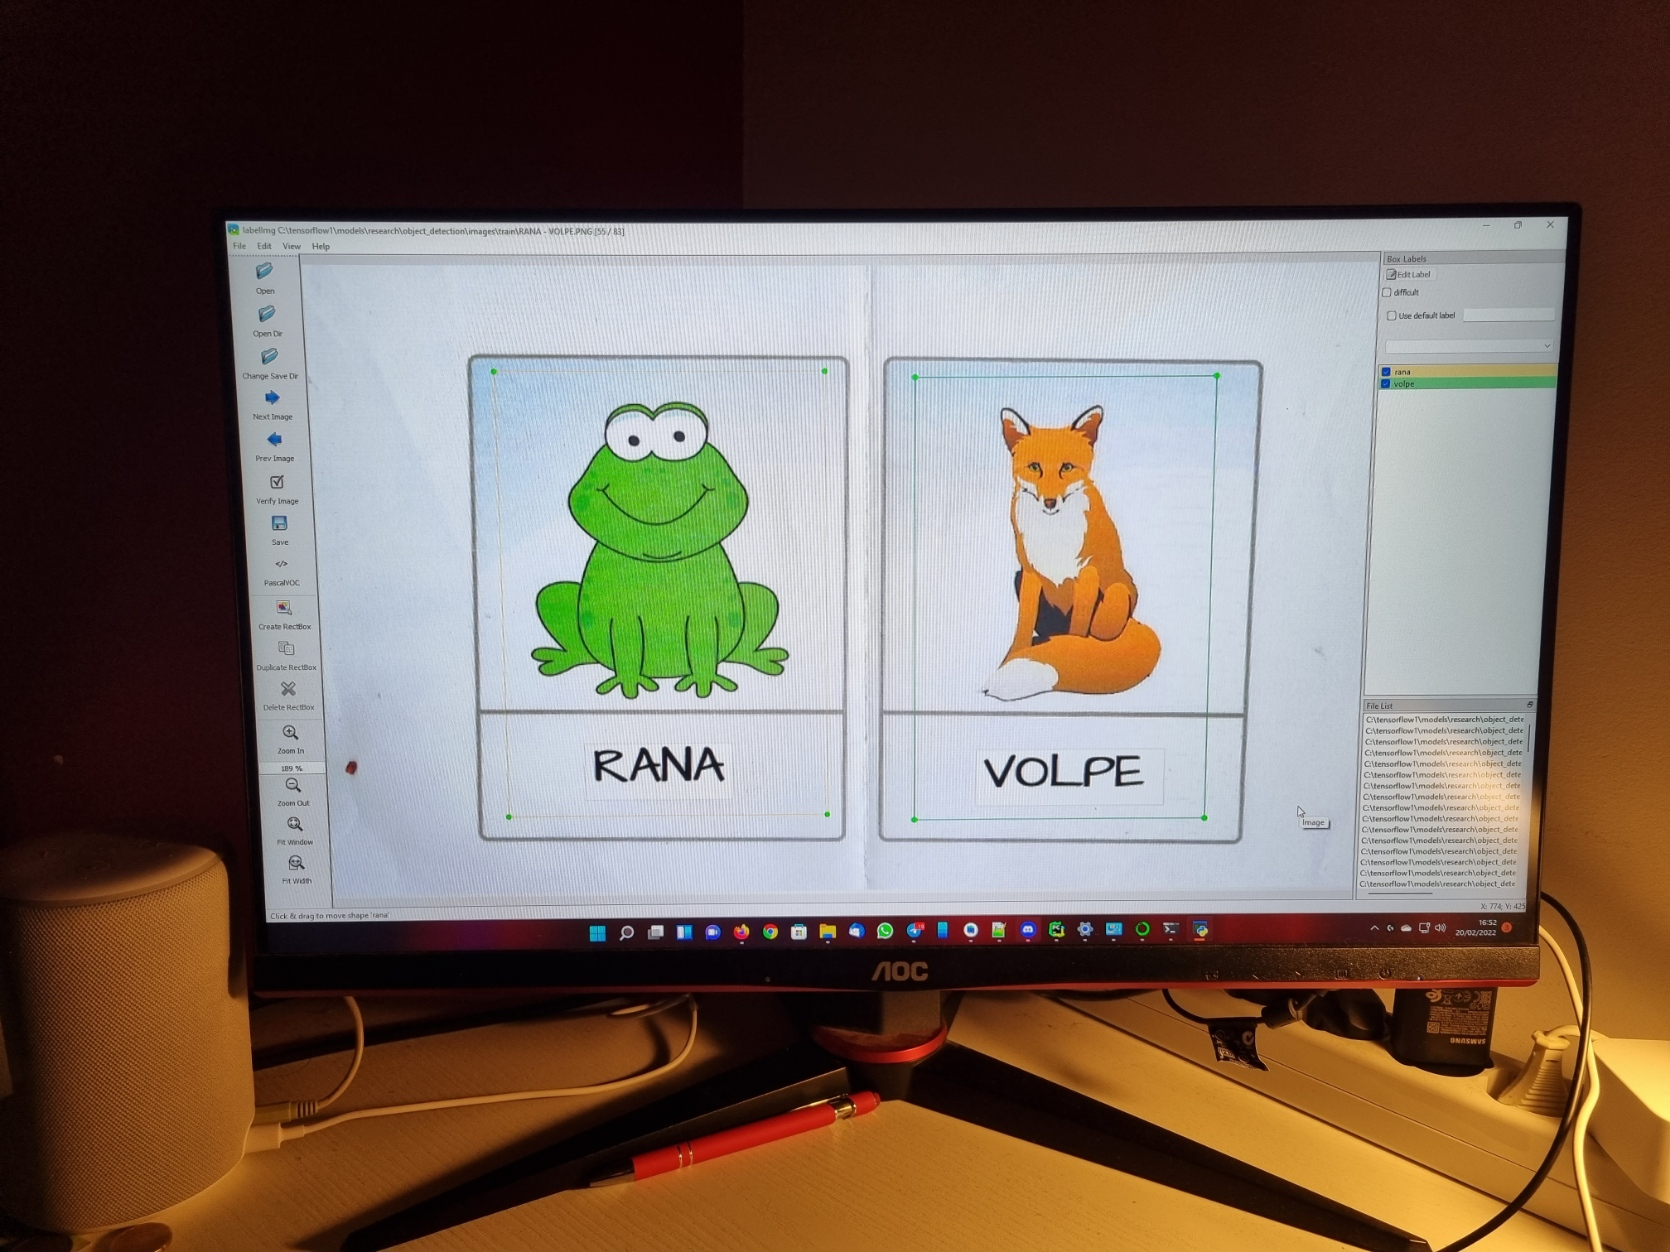rana: (500, 376, 826, 815)
volpe: (919, 385, 1199, 814)
